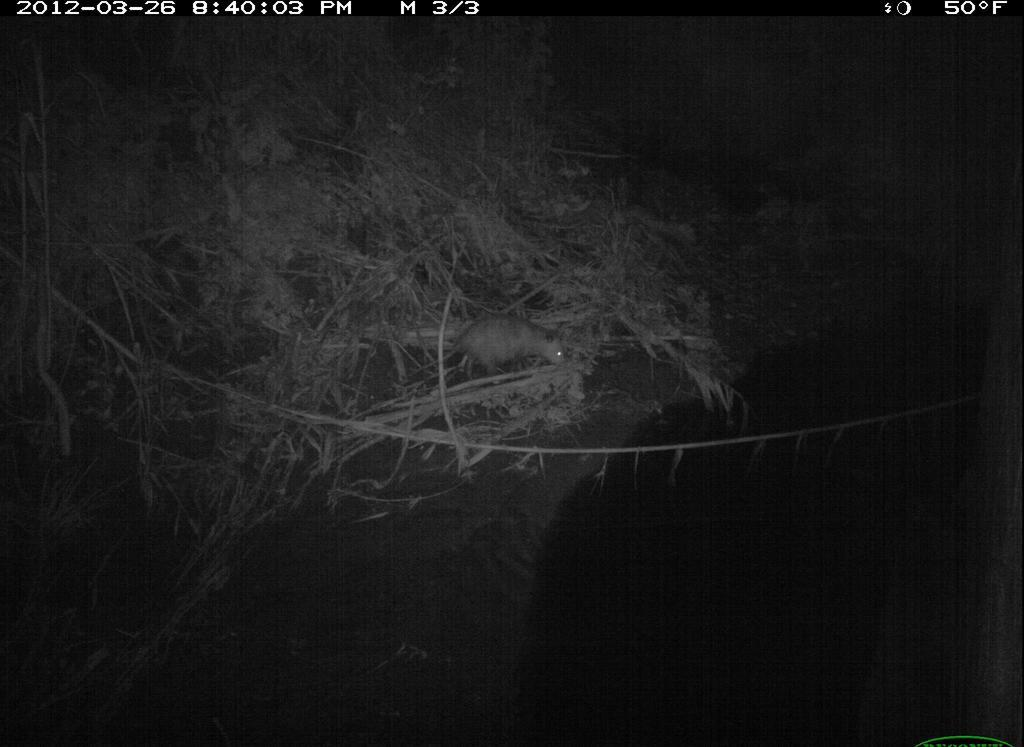opossum: (405, 312, 571, 392)
